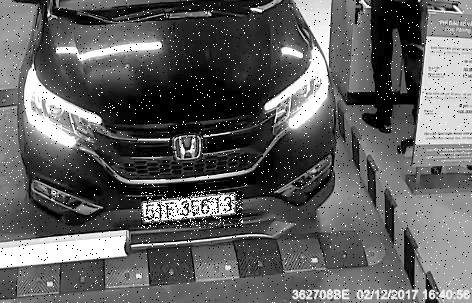License-plate: (143, 192, 245, 229)
